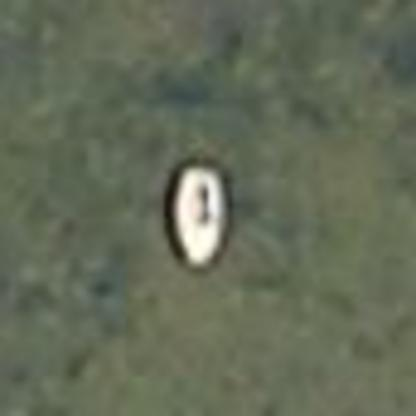ship: (153, 151, 246, 283)
